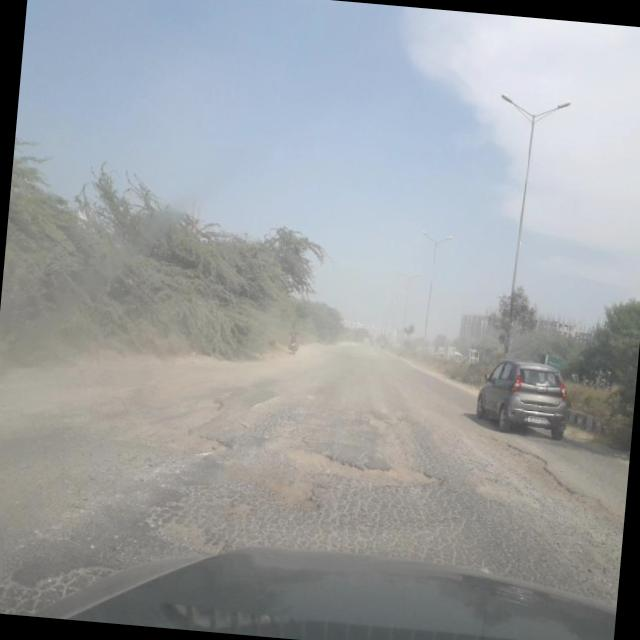crack: (0, 360, 625, 598), (0, 552, 115, 611)
pothole: (456, 432, 629, 542), (84, 371, 245, 470), (289, 440, 443, 494), (140, 498, 246, 572), (361, 399, 426, 444)
